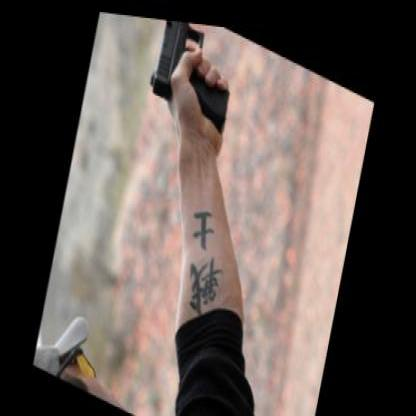pistol: (143, 14, 241, 132)
